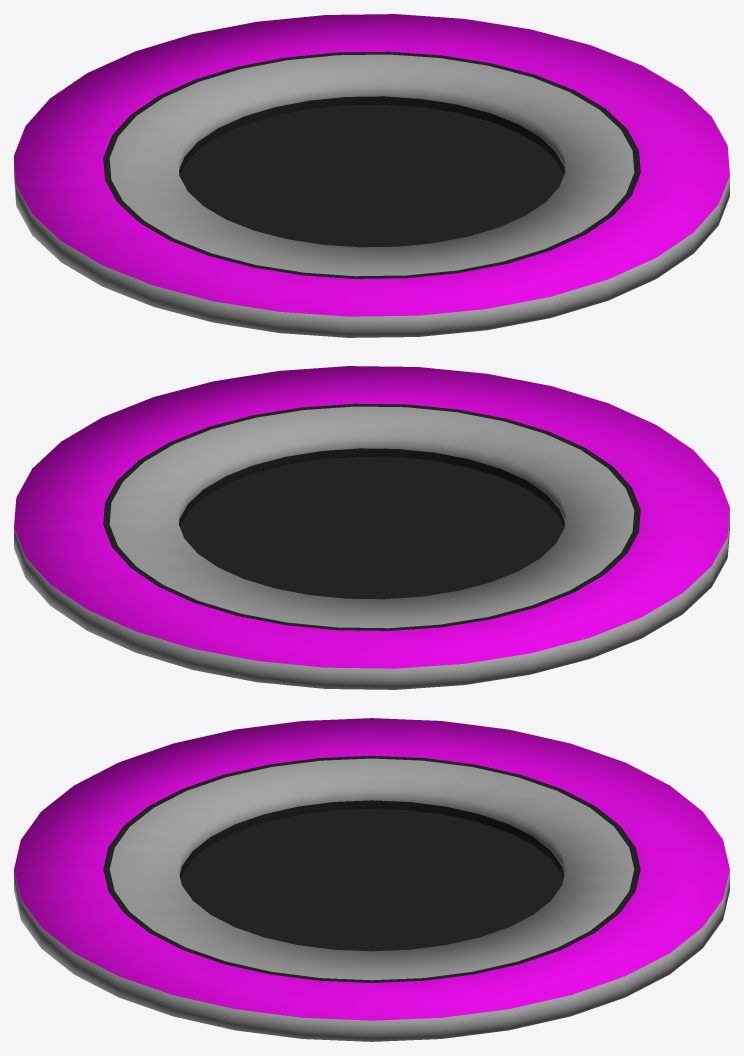
Rendered from TargetButtonDetector.fbx.
The picture shows the model from 3 angles, top to bottom: view 1: azimuth 30°, elevation 25°; view 2: azimuth 150°, elevation 25°; view 3: azimuth 270°, elevation 25°; orthographic projection.
Visible parts, largest first — view 1: TargetButtonDetector; view 2: TargetButtonDetector; view 3: TargetButtonDetector.
Boxes of the visible parts, left/top/right/bottom form: TargetButtonDetector: left=14, top=14, right=729, bottom=337; TargetButtonDetector: left=14, top=366, right=729, bottom=689; TargetButtonDetector: left=14, top=718, right=729, bottom=1041.
Bounding box in the file's own units: 200 × 6.54 × 200.
